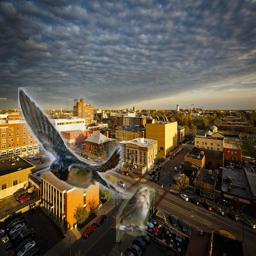Sparrow: (116, 184, 156, 242)
Swallow: (18, 87, 139, 199)
